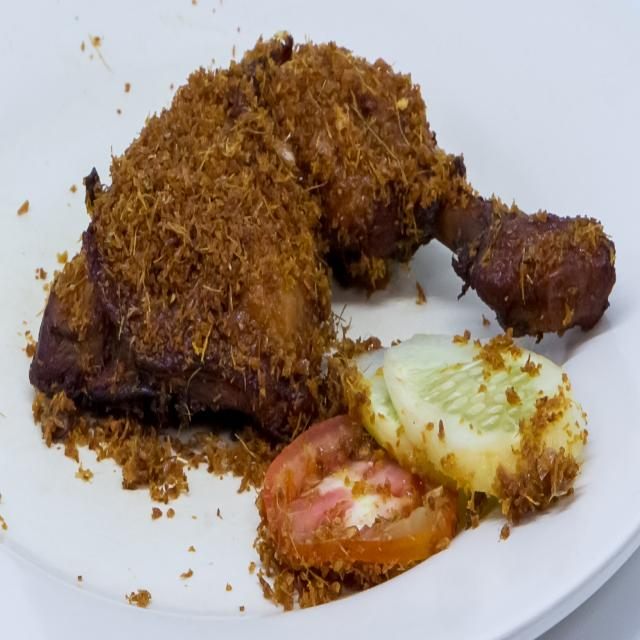Ayam-Goreng-Lengkuas: (26, 19, 623, 468)
